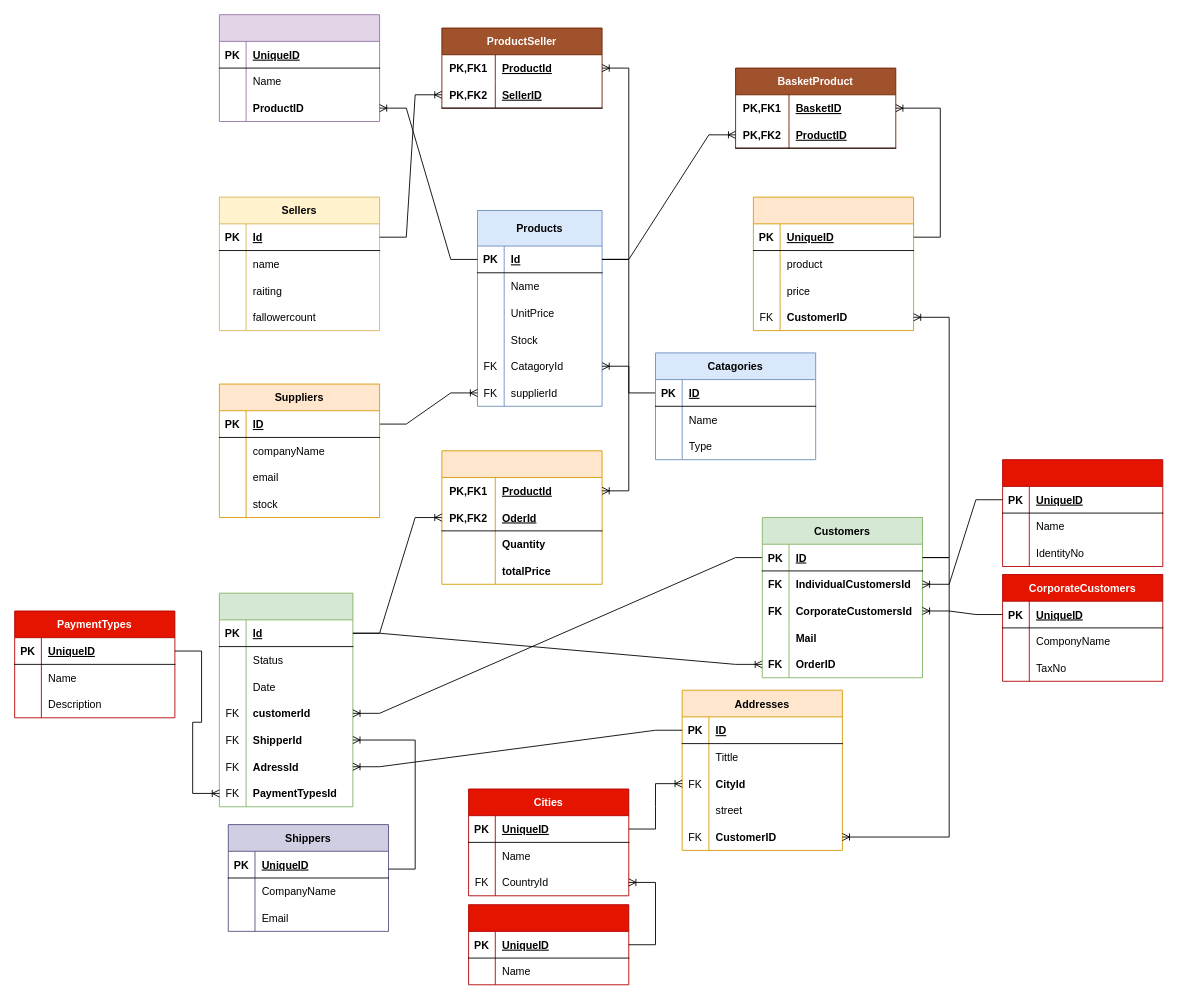
Image size: 1177x999. Some labels were removed from this diagram. The box of each missing label's shape, as (x1, y1, x2, y2) in pixels:
Baskets: (752, 196, 914, 331)
Brands: (218, 14, 380, 121)
Countries: (468, 904, 629, 985)
IndividualCustomers: (1002, 459, 1163, 566)
Orders: (218, 592, 353, 807)
productOrder: (441, 450, 602, 584)
